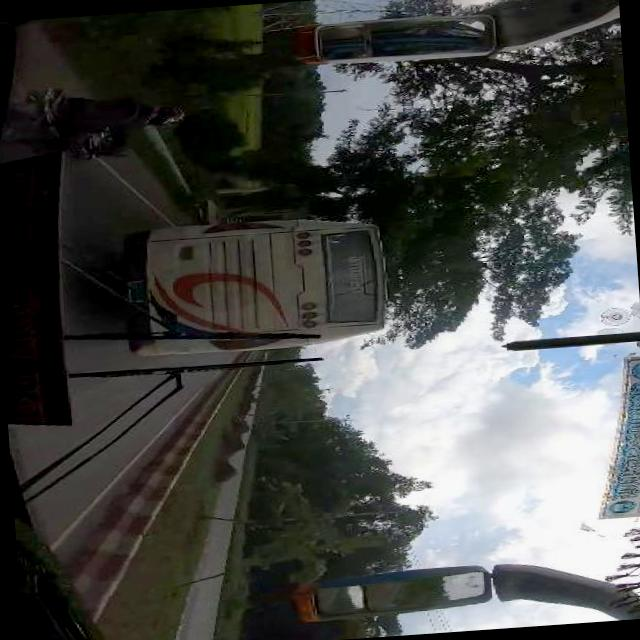bus: (125, 214, 393, 358)
motorcycle: (6, 75, 191, 164)
